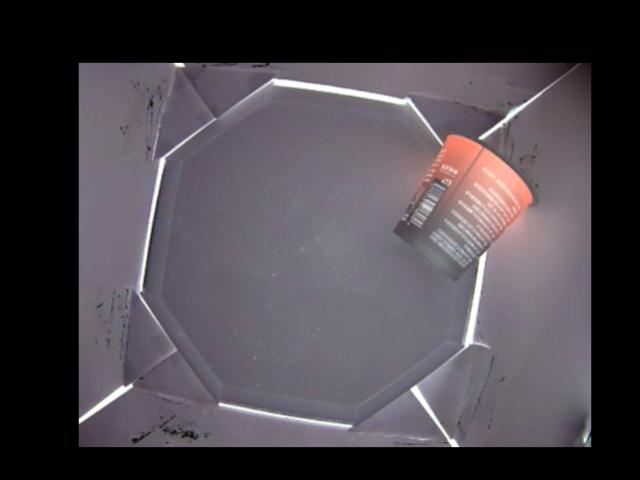Cup: (395, 134, 536, 279)
